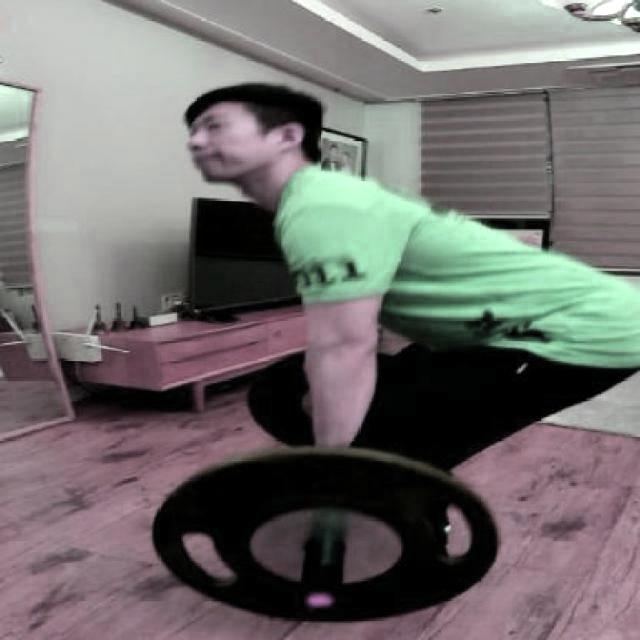barbell: (146, 439, 504, 630)
